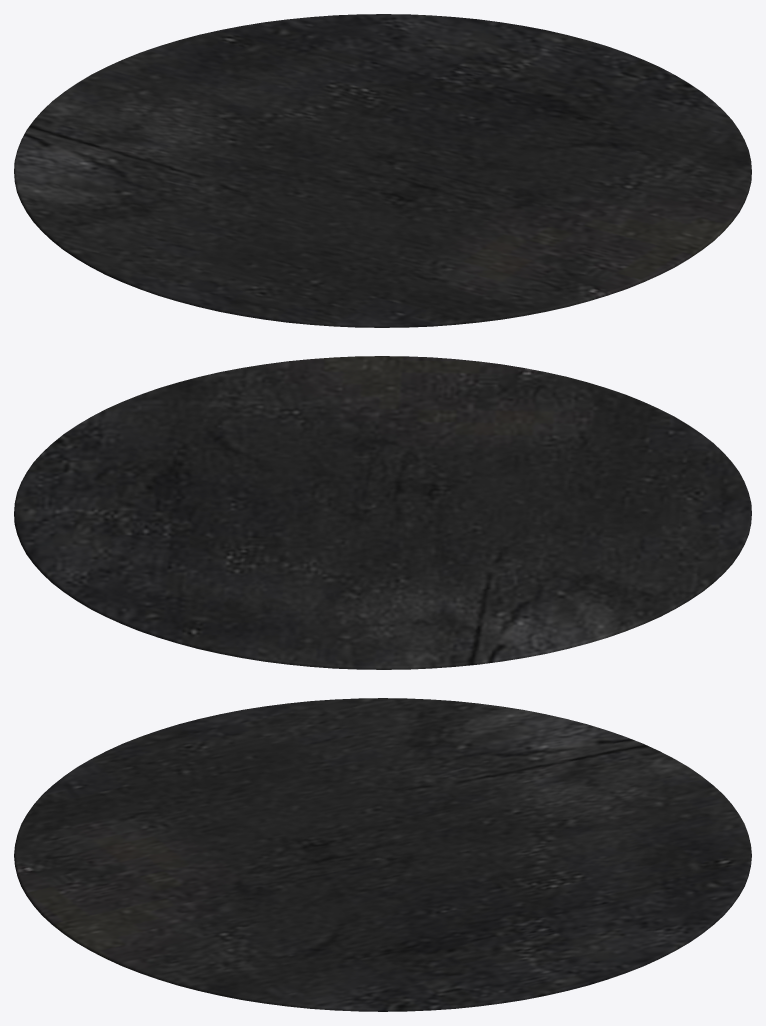
File: SM_Horror_Attic_Rug.fbx
3 views of the same model, one above another, from view 1: azimuth 30°, elevation 25°; view 2: azimuth 150°, elevation 25°; view 3: azimuth 270°, elevation 25° (orthographic).
Parts seen in each view (by area): view 1: SM_Horror_Attic_Rug; view 2: SM_Horror_Attic_Rug; view 3: SM_Horror_Attic_Rug.
Part boxes in pixels (left/top/right/bottom): SM_Horror_Attic_Rug: left=14, top=14, right=751, bottom=327; SM_Horror_Attic_Rug: left=14, top=356, right=751, bottom=669; SM_Horror_Attic_Rug: left=14, top=698, right=751, bottom=1011.
Bounding box in the file's own units: 355 × 355 × 1.45.
Materials: 1 (1 with a texture image).
